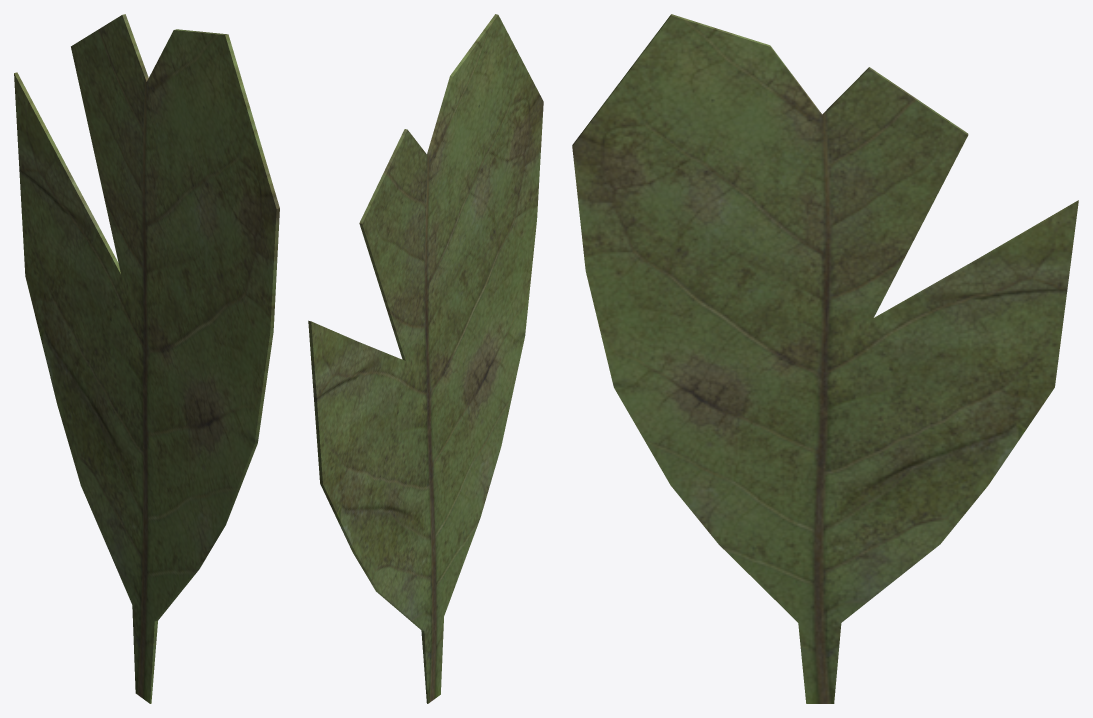
The model's file is Leaf2Cut.fbx.
3 views of the same model, side by side, from view 1: azimuth 30°, elevation 25°; view 2: azimuth 150°, elevation 25°; view 3: azimuth 270°, elevation 25° (orthographic). The views are drawn at different scales.
Parts seen in each view (by area): view 1: leaf2Cut; view 2: leaf2Cut; view 3: leaf2Cut.
Part boxes in pixels (x1=…): leaf2Cut: x1=14, y1=14, x2=279, y2=703; leaf2Cut: x1=308, y1=14, x2=543, y2=703; leaf2Cut: x1=572, y1=14, x2=1078, y2=703.
Bounding box in the file's own units: 0.3076 × 23.9 × 15.86.
